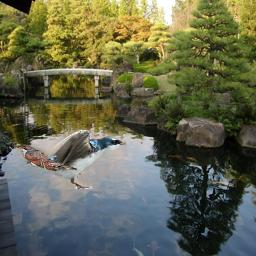Cuckoo: (15, 143, 78, 174)
Swallow: (12, 128, 127, 189)
